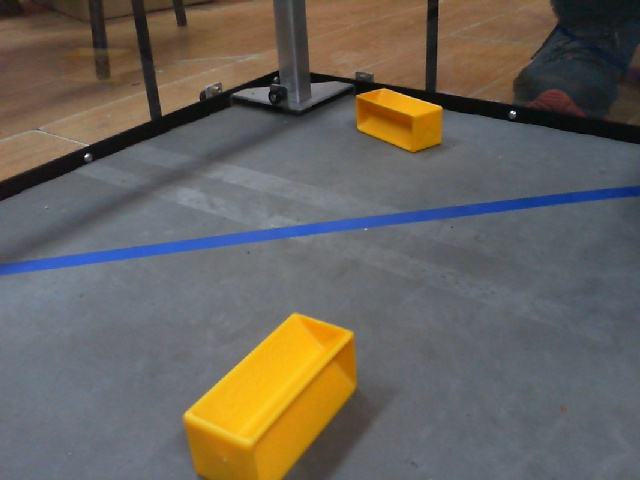YellowSample: (178, 306, 361, 480), (348, 81, 452, 158)
